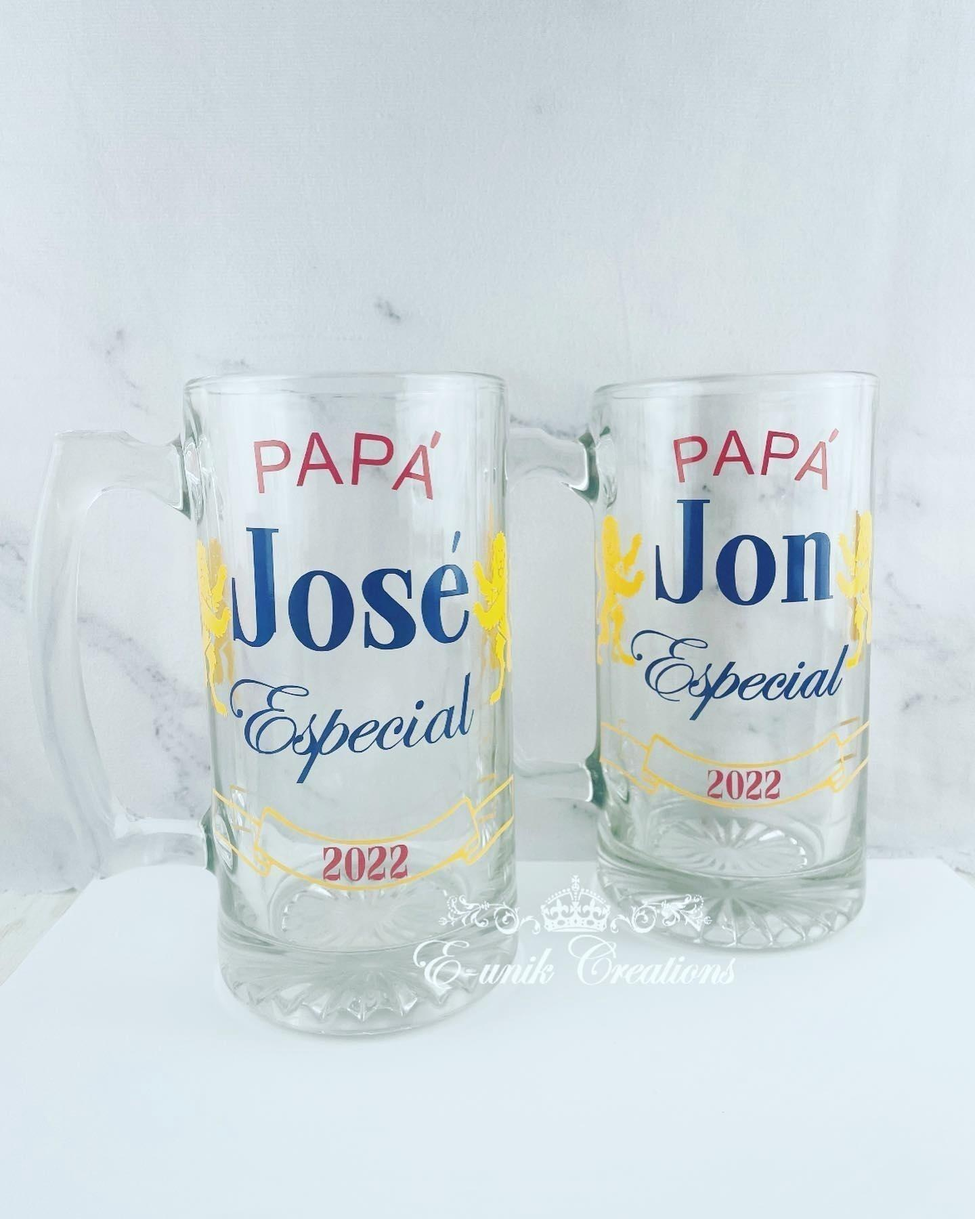glass-mug: (0, 353, 529, 1042), (473, 356, 911, 968)
